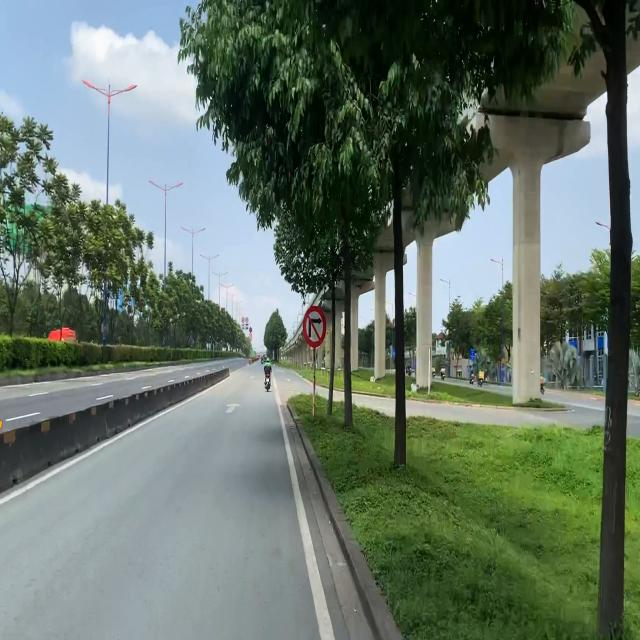Cam re phai: (303, 306, 327, 348)
